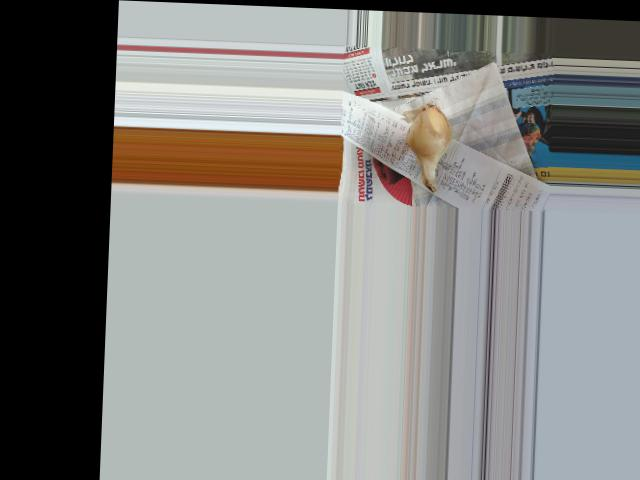onion: (408, 107, 451, 171)
